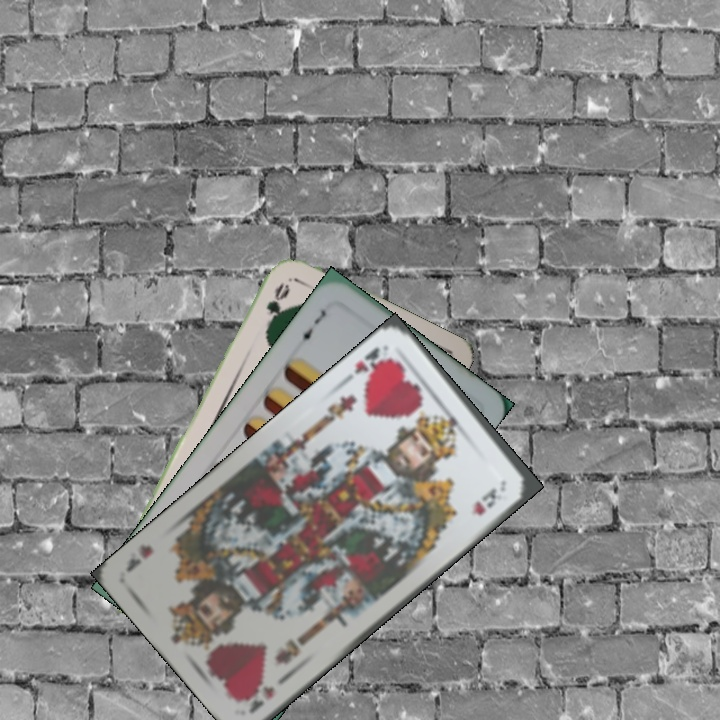E7: (293, 305, 329, 347)
GO: (262, 278, 293, 334)
HK: (342, 343, 394, 385), (241, 674, 291, 716)
